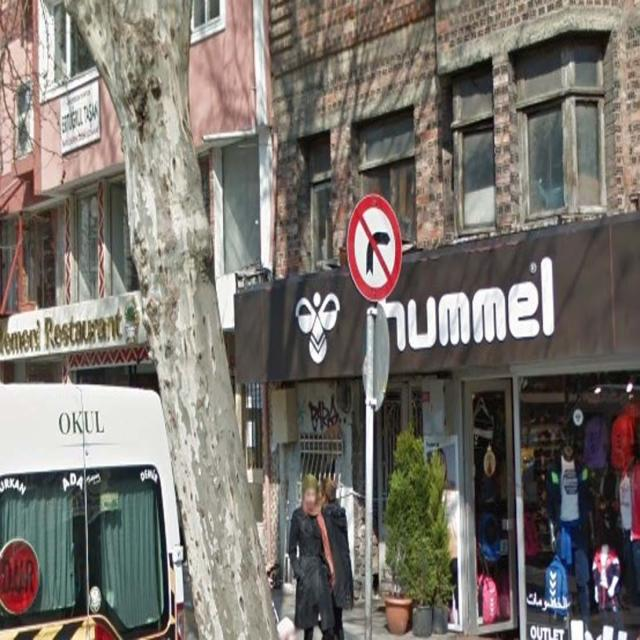sagadonulmez: (347, 192, 402, 300)
